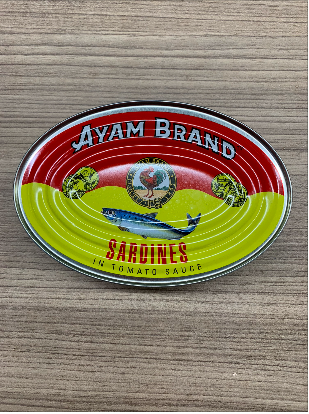Sardines_400-499g: (64, 121, 251, 275)
